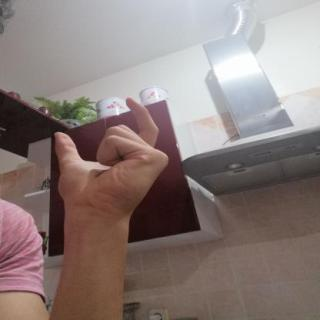NOON: (42, 87, 178, 229)
